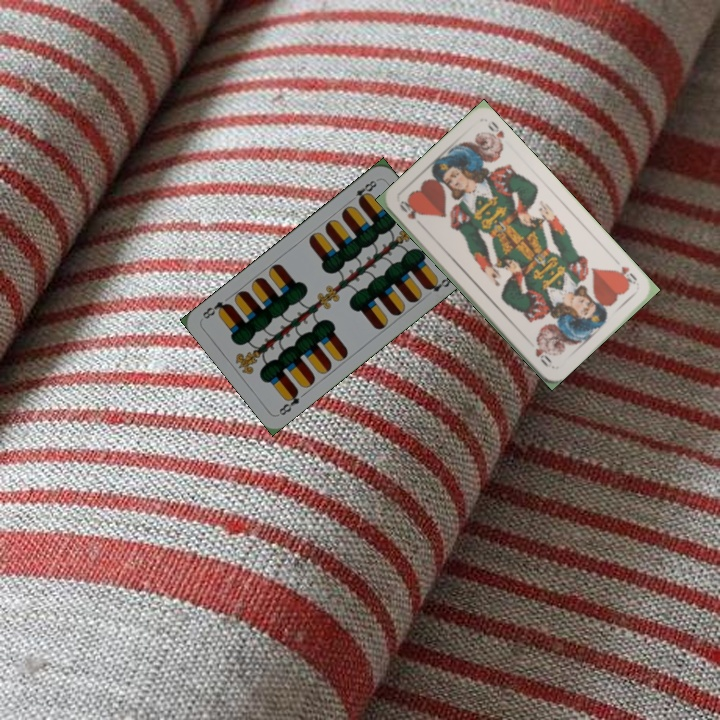E8: (351, 175, 380, 206), (275, 385, 302, 418)
HO: (610, 262, 640, 289), (395, 197, 418, 222)
